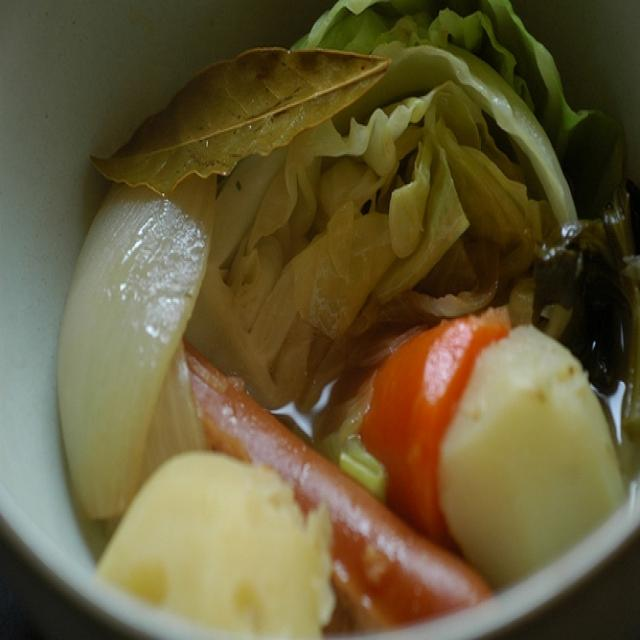汤锅炖物: (23, 10, 634, 610)
